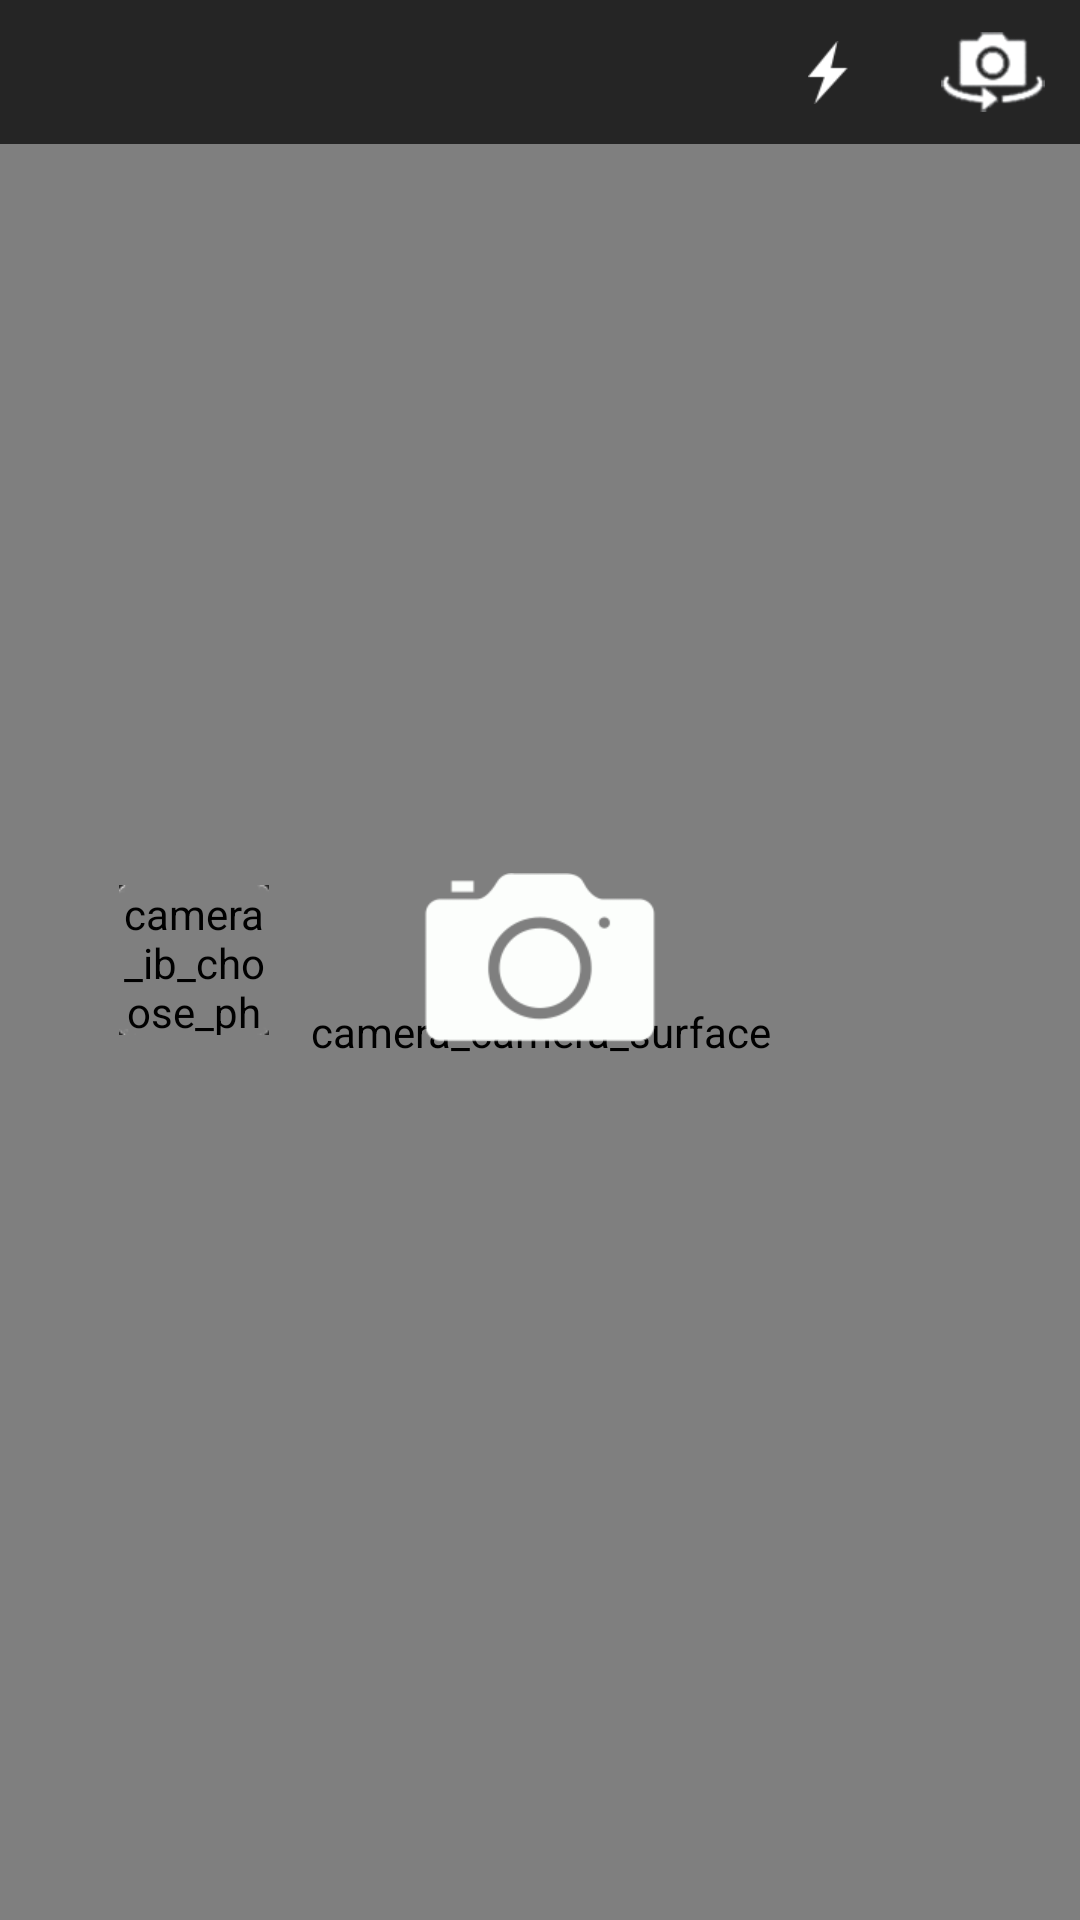

Screen size 1080px×1920px. Icon name, then its box in pixels as rect(x1, y1, x2, y2):
camera capture: rect(419, 873, 661, 1047)
camera flash on: rect(808, 41, 848, 104)
camera switch: rect(941, 32, 1045, 112)
